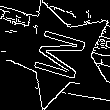M_E: (28, 25, 93, 84)
